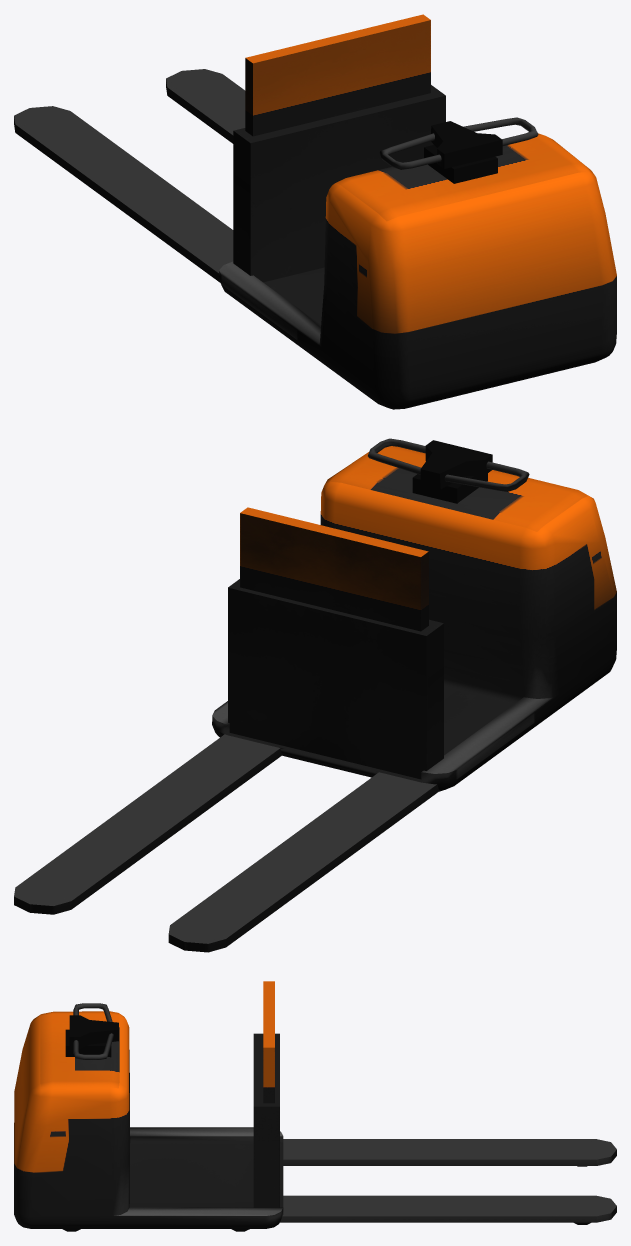
3 renders of one model, top to bottom at view 1: azimuth 30°, elevation 25°; view 2: azimuth 150°, elevation 25°; view 3: azimuth 270°, elevation 25°, orthographic. The views are drawn at different scales.
Parts seen in each view (by area): view 1: PO; view 2: PO; view 3: PO.
Part boxes in pixels (x1,y1,x2,y2): PO: [14, 14, 616, 409]; PO: [14, 438, 616, 952]; PO: [14, 981, 616, 1231].
Size of the model in its own units: 38.74 by 36.31 by 110.
1 material, 1 textured.
